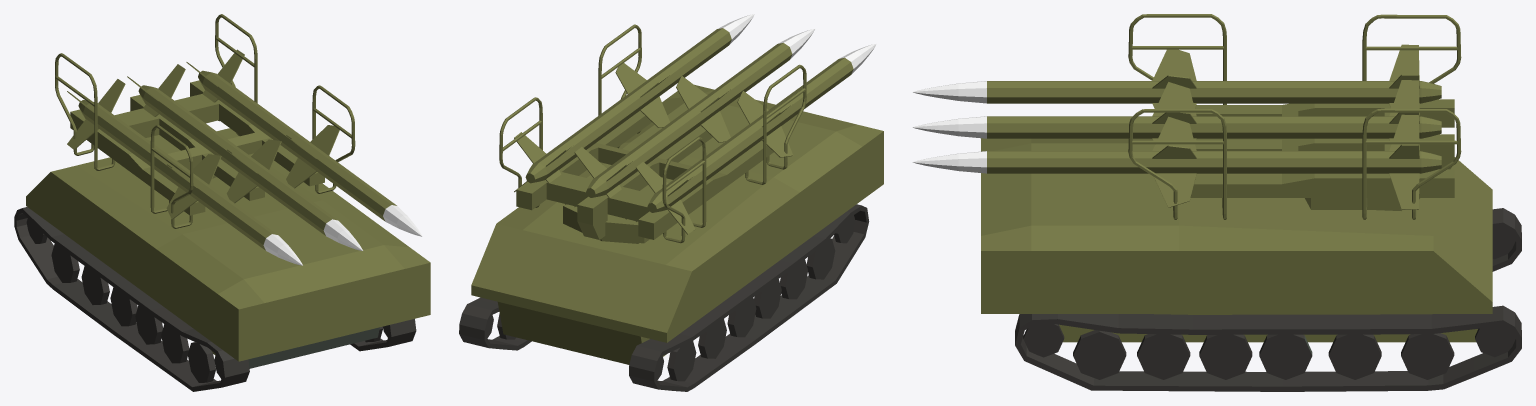
3 renders of one model, left to right at view 1: azimuth 30°, elevation 25°; view 2: azimuth 150°, elevation 25°; view 3: azimuth 270°, elevation 25°, orthographic. The views are drawn at different scales.
Visible parts, largest first — view 1: Chassis, Launcher, Missile_2, Missile_1, Missile_3; view 2: Chassis, Launcher, Missile_2, Missile_1, Missile_3, Turret; view 3: Chassis, Launcher, Missile_1, Missile_3, Missile_2, Turret.
Part boxes in pixels (<box>): Chassis: <box>14,128,430,391</box>; Launcher: <box>55,14,355,228</box>; Missile_2: <box>127,64,362,250</box>; Missile_1: <box>186,49,422,236</box>; Missile_3: <box>67,79,302,265</box>; Chassis: <box>459,84,883,391</box>; Launcher: <box>499,24,806,243</box>; Missile_2: <box>574,29,814,219</box>; Missile_1: <box>514,14,754,204</box>; Missile_3: <box>636,43,876,234</box>; Turret: <box>563,185,654,243</box>; Chassis: <box>981,138,1521,391</box>; Launcher: <box>1128,14,1461,219</box>; Missile_1: <box>912,114,1441,209</box>; Missile_3: <box>912,44,1441,108</box>; Missile_2: <box>912,80,1441,144</box>; Turret: <box>1305,198,1419,210</box>.
Bounding box in the file's own units: 2.82 × 3.2 × 6.45.
Materials: 3 (3 with a texture image).
